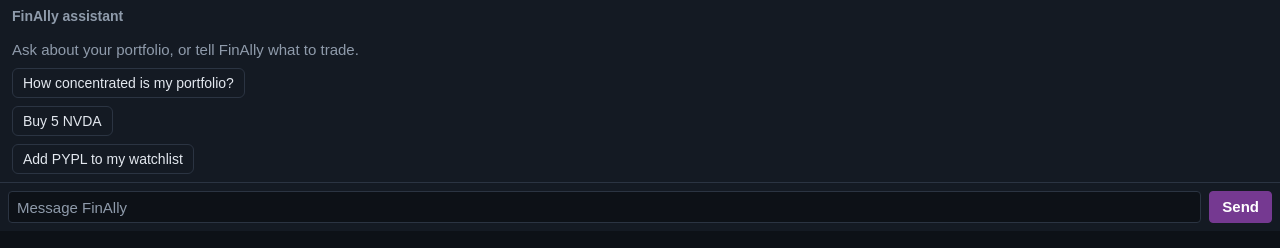
it: ChatPanel › explains a failed request
The image size is (1280, 248).
Step 1. Type "Hi" into the field labelled "Message FinAlly" → [605, 207], box [8,191,1201,223]
Then press Enter
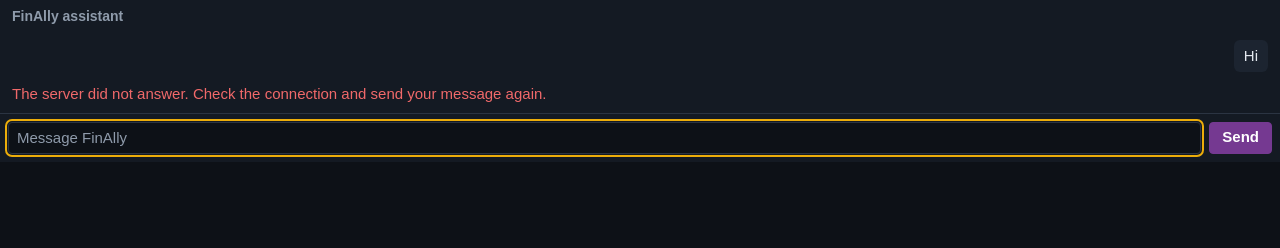
Now the text "did not answer" is shown, box [12,85,546,102]
